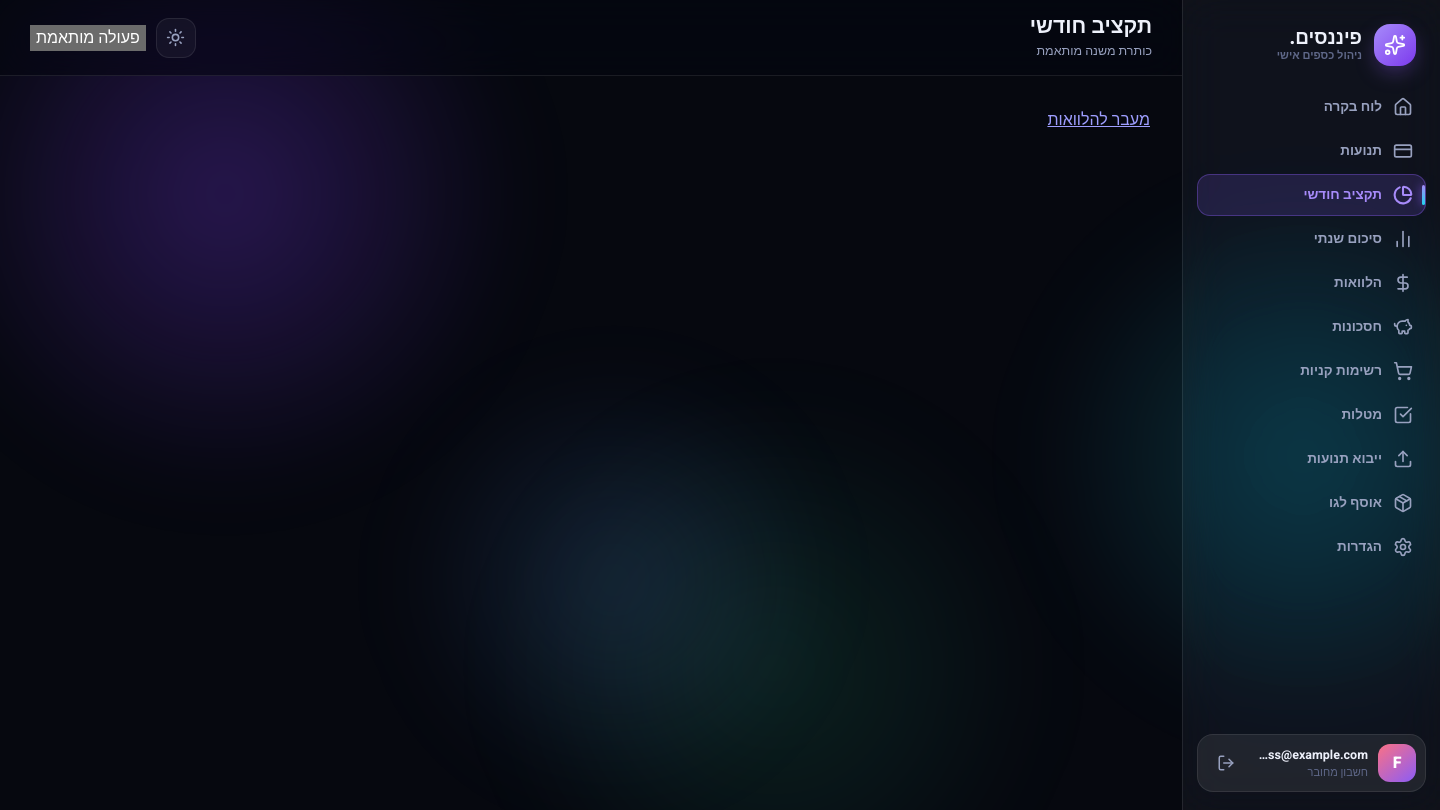
Test: page header and shell controls › applies an override and clears it when navigation remounts the route contract
expect the text "כותרת משנה מותאמת" is shown: met, box x1=1030 y1=42 x2=1152 y2=60
expect the heading "תקציב חודשי" is shown: met, box x1=1030 y1=15 x2=1152 y2=39
Click the link "מעבר להלוואות".
click(1099, 120)  # box x1=1047 y1=108 x2=1150 y2=132
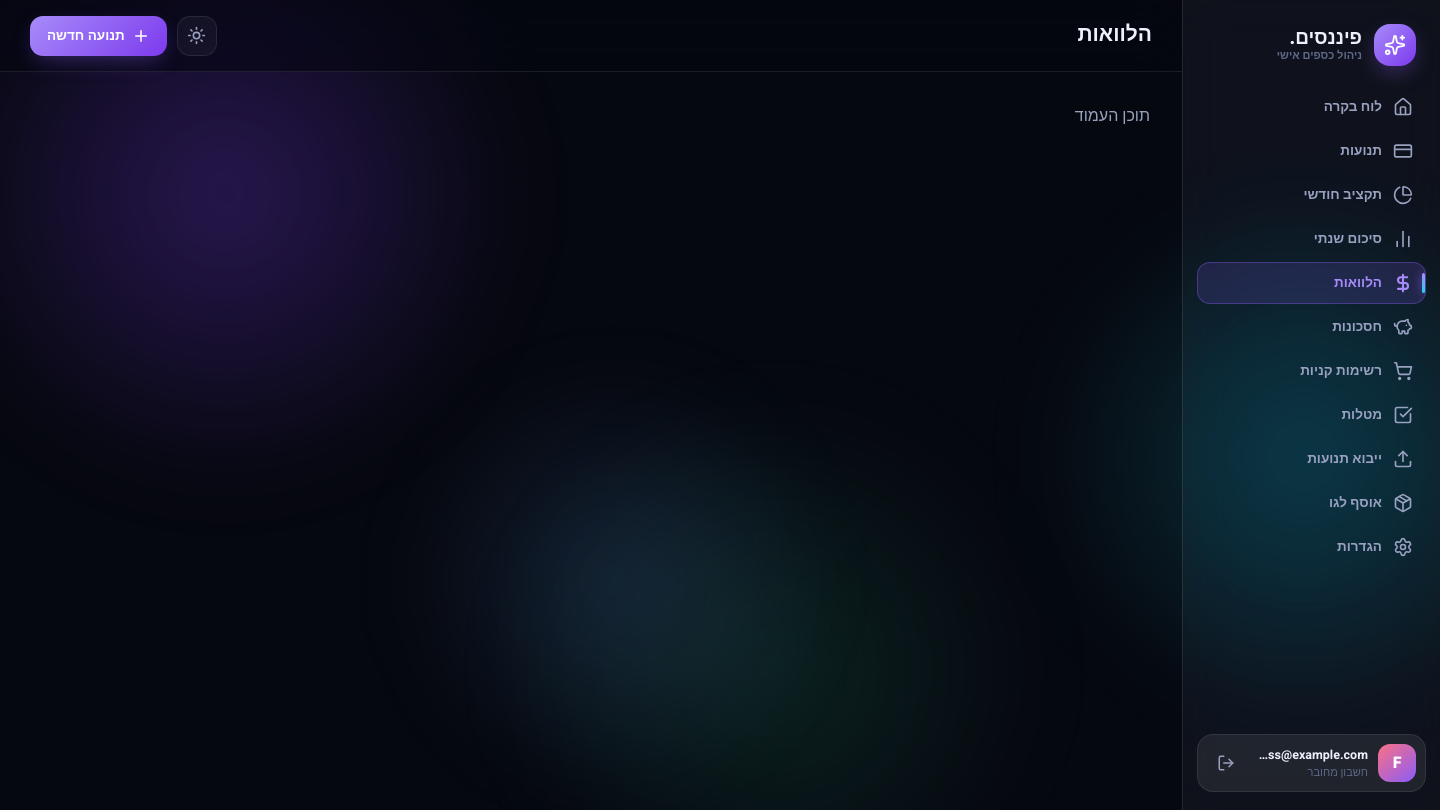
expect the heading "הלוואות" is shown: met, box x1=1077 y1=23 x2=1152 y2=48
expect the text "כותרת משנה מותאמת" is gone: met
expect the button "פעולה מותאמת" is gone: met
